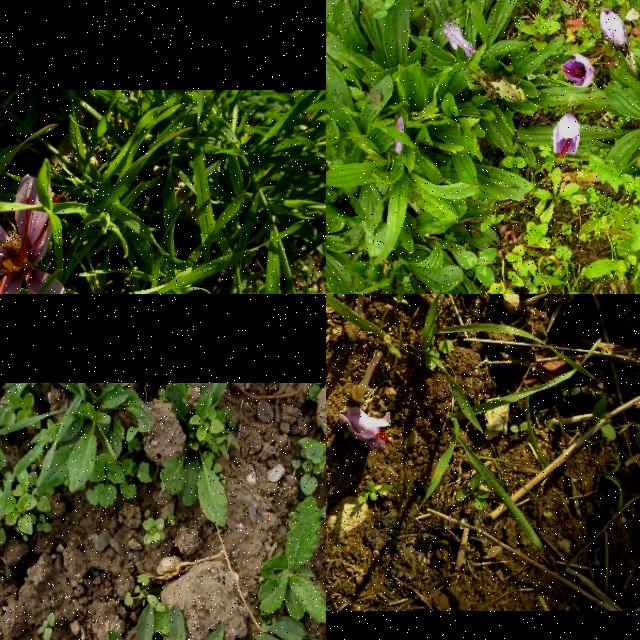flower: (0, 174, 69, 294), (338, 407, 392, 451), (601, 7, 631, 57), (553, 110, 581, 158), (560, 54, 596, 88)
